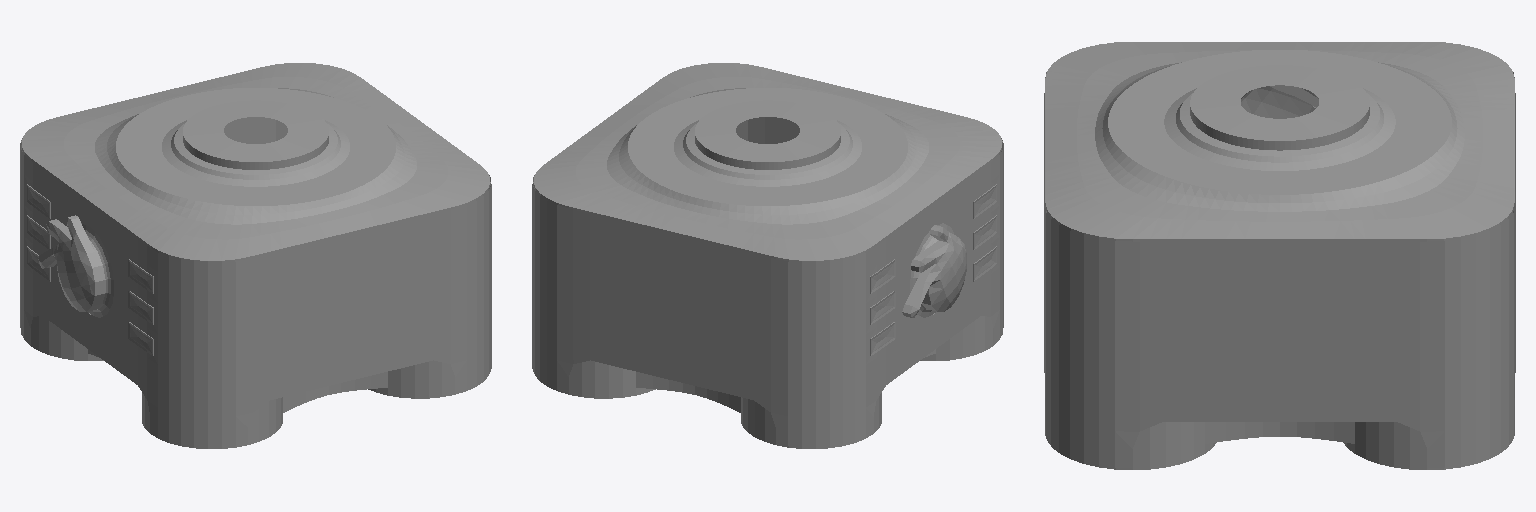
URDF robot description (blender_device):
<?xml version="1.0"?>

<robot name="blender_device">
  <link name="blender_device">
    <gravity>false</gravity>
    <inertial>
       <mass value="0.02"/>
       <inertia
        ixx="0.0007"
        ixy="0"
        ixz="0"
        iyy="0.0007"
        iyz="0"
        izz="0.007" />
    </inertial>
    <collision>
        <geometry><box size="0.0001 0.0001 0.0001" /></geometry>
          <surface>
            <contact>
              <collide_without_contact>true</collide_without_contact>
            </contact>
          </surface>
    </collision>
    <visual>
      <geometry>
        <mesh filename="package://milkshake_demo/models/blender_device/meshes/blender_device.dae"/>
      </geometry>
    </visual>
  </link>
</robot>

--- Facts derived from the render (not from the file) ---
The picture shows the robot from 3 angles, left to right: view 1: azimuth 30°, elevation 25°; view 2: azimuth 150°, elevation 25°; view 3: azimuth 270°, elevation 25°; orthographic projection.
Robot: blender_device — 1 links, 0 joints (none); root link blender_device; default pose: every joint at zero.
Links seen in each view (by area): view 1: blender_device; view 2: blender_device; view 3: blender_device.
Link boxes in pixels (left/top/right/bottom): blender_device: left=20, top=63, right=491, bottom=448; blender_device: left=532, top=63, right=1003, bottom=448; blender_device: left=1044, top=42, right=1515, bottom=469.
Size in the robot's own frame: 0.2353 by 0.2209 by 0.1394 metres.
1 mesh visuals loaded from 1 distinct referenced files (1 Collada DAE).